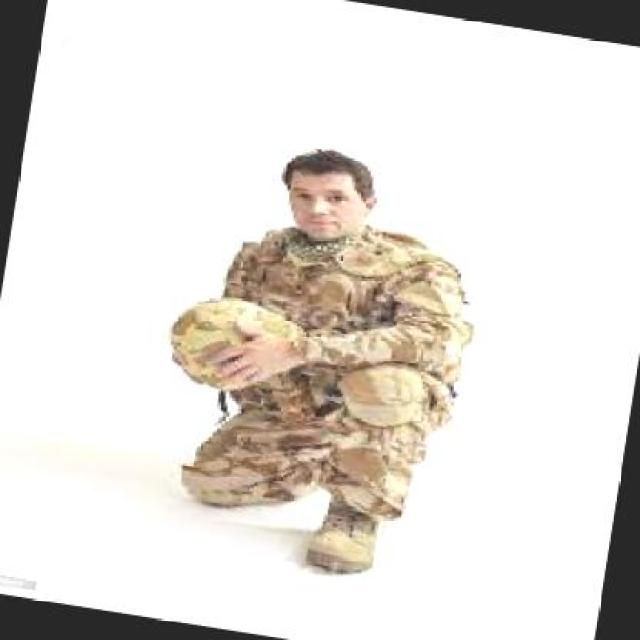MIL_Pax: (130, 124, 498, 596)
